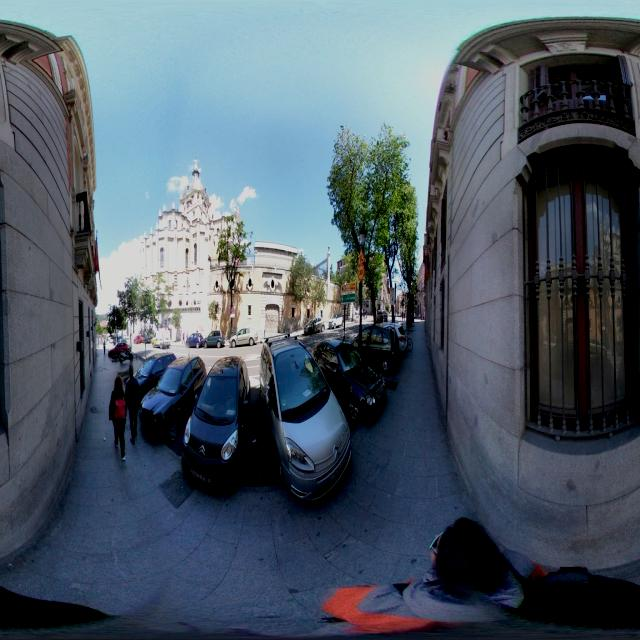car: (181, 337, 352, 501), (139, 356, 211, 446), (135, 350, 180, 401), (107, 337, 131, 362), (228, 327, 257, 347), (205, 330, 225, 349), (187, 332, 204, 348)
